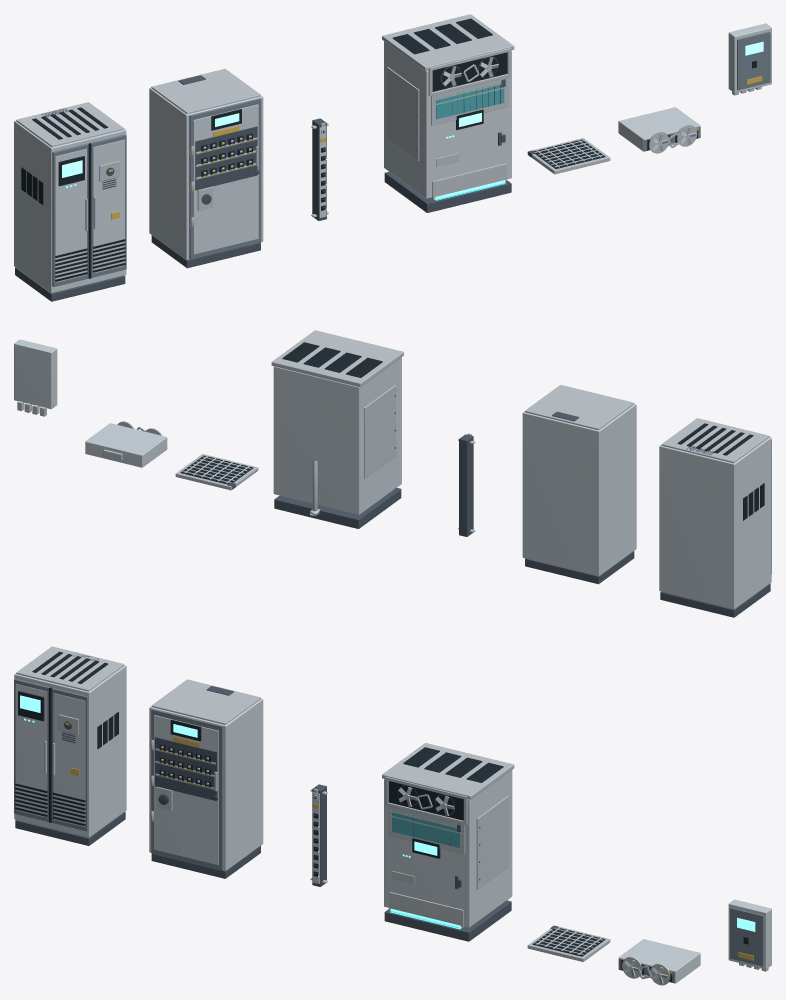
Rendered from infrastructure.glb.
The picture shows the model from 3 angles, top to bottom: view 1: azimuth 30°, elevation 25°; view 2: azimuth 150°, elevation 25°; view 3: azimuth 330°, elevation 25°; orthographic projection.
Parts seen in each view (by area): view 1: part_crac_cabinet.001, part_dist_cabinet.001, part_ups_cabinet.001, part_ups_door.001, part_dist_door.001, part_dist_breakers.001, part_crac_coil.001, part_ups_control.001, part_ups_battery.001, part_crac_fans.001, fan_tray_paint, feed_panel_shell (+8 smaller); view 2: part_crac_cabinet.001, part_dist_cabinet.001, part_ups_cabinet.001, feed_panel_paint, fan_tray_paint, rack_pdu_dark, floor_vent_black, part_ups_control.001, floor_vent_paint, floor_vent_metal; view 3: part_crac_cabinet.001, part_dist_cabinet.001, part_ups_cabinet.001, part_ups_door.001, part_dist_door.001, part_dist_breakers.001, part_crac_coil.001, part_ups_control.001, part_ups_battery.001, part_crac_fans.001, fan_tray_paint, feed_panel_shell (+7 smaller).
Part boxes in pixels (x1,y1,x2,y2): part_crac_cabinet.001: [382, 14, 514, 212]; part_dist_cabinet.001: [149, 68, 263, 268]; part_ups_cabinet.001: [14, 102, 126, 301]; part_ups_door.001: [52, 134, 126, 286]; part_dist_door.001: [189, 98, 261, 259]; part_dist_breakers.001: [195, 126, 257, 190]; part_crac_coil.001: [431, 77, 508, 125]; part_ups_control.001: [32, 107, 119, 189]; part_ups_battery.001: [21, 167, 125, 281]; part_crac_fans.001: [428, 48, 510, 96]; fan_tray_paint: [618, 107, 700, 151]; feed_panel_shell: [737, 31, 770, 90]; part_crac_cabinet.001: [271, 330, 403, 528]; part_dist_cabinet.001: [522, 384, 636, 584]; part_ups_cabinet.001: [659, 418, 771, 617]; feed_panel_paint: [14, 339, 57, 409]; fan_tray_paint: [85, 423, 167, 467]; rack_pdu_dark: [459, 434, 473, 536]; floor_vent_black: [180, 455, 253, 484]; part_ups_control.001: [677, 423, 753, 455]; floor_vent_paint: [182, 456, 250, 483]; floor_vent_metal: [175, 454, 258, 490]; part_crac_cabinet.001: [382, 743, 514, 941]; part_dist_cabinet.001: [149, 679, 263, 878]; part_ups_cabinet.001: [14, 646, 126, 845]; part_ups_door.001: [14, 678, 88, 831]; part_dist_door.001: [150, 709, 222, 870]; part_dist_breakers.001: [155, 737, 217, 800]; part_crac_coil.001: [387, 806, 465, 854]; part_ups_control.001: [18, 651, 107, 742]; part_ups_battery.001: [15, 711, 118, 825]; part_crac_fans.001: [385, 777, 467, 825]; fan_tray_paint: [618, 939, 700, 983]; feed_panel_shell: [730, 907, 763, 966].
Bounding box in the file's own units: 9.76 × 2.03 × 1.11.
